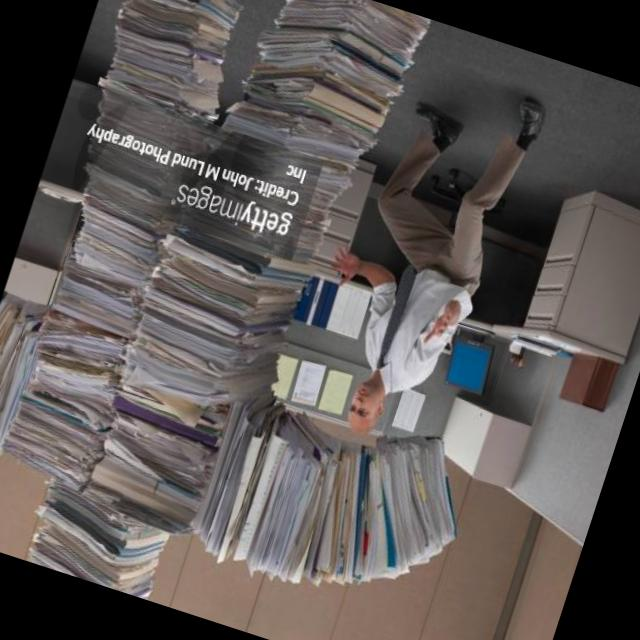KertasBekas: (0, 0, 432, 628), (183, 376, 484, 636)
